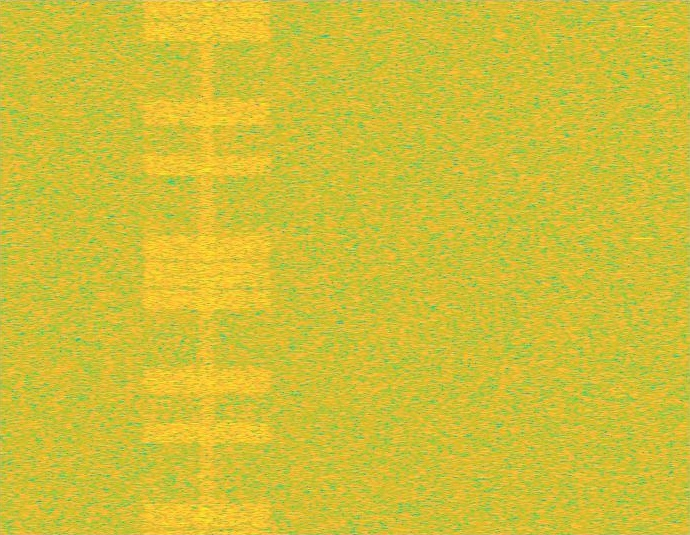DSSS: (198, 0, 216, 534)
LTE: (138, 0, 276, 534)
Radar: (636, 0, 650, 534)
